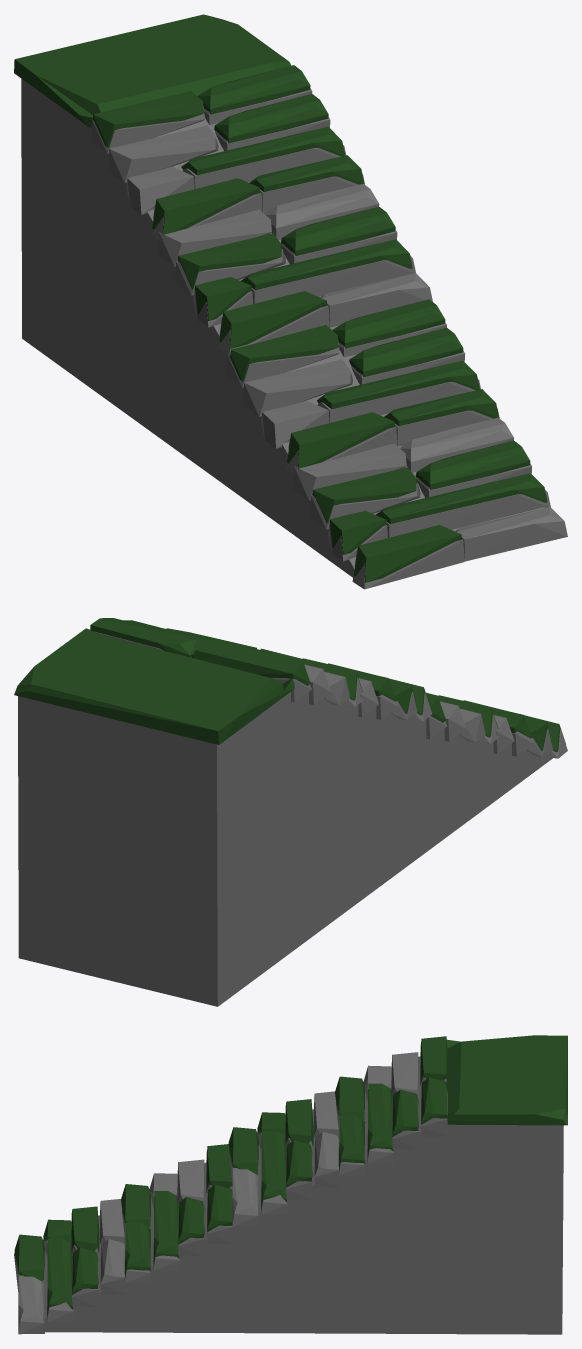
Rendered from SM_staircase_jungle_02.fbx.
The picture shows the model from 3 angles, top to bottom: view 1: azimuth 30°, elevation 25°; view 2: azimuth 150°, elevation 25°; view 3: azimuth 270°, elevation 25°; orthographic projection. The views are drawn at different scales.
Parts seen in each view (by area): view 1: Box020; view 2: Box020; view 3: Box020.
Boxes of the visible parts, <box> form: Box020: <box>14,14,567,589</box>; Box020: <box>14,618,567,1006</box>; Box020: <box>14,1035,567,1334</box>.
Bounding box in the file's own units: 101 × 127 × 289.
